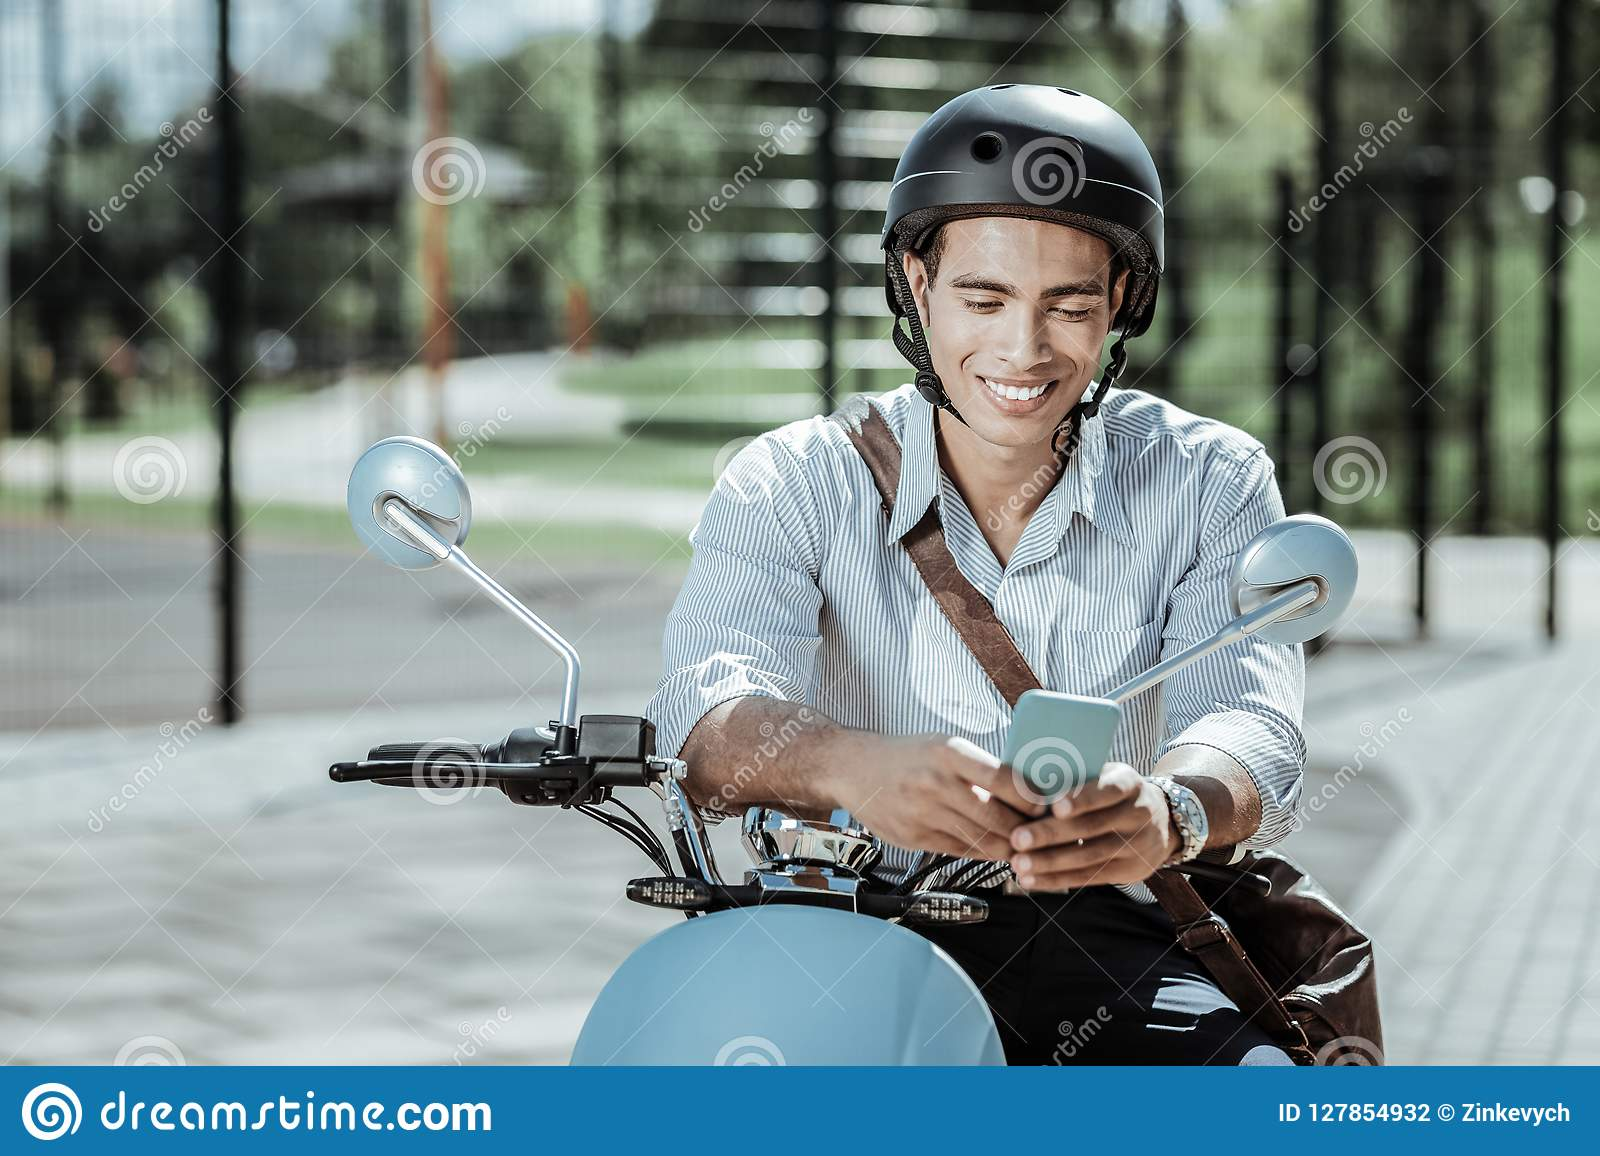helmet: (891, 57, 1189, 320)
